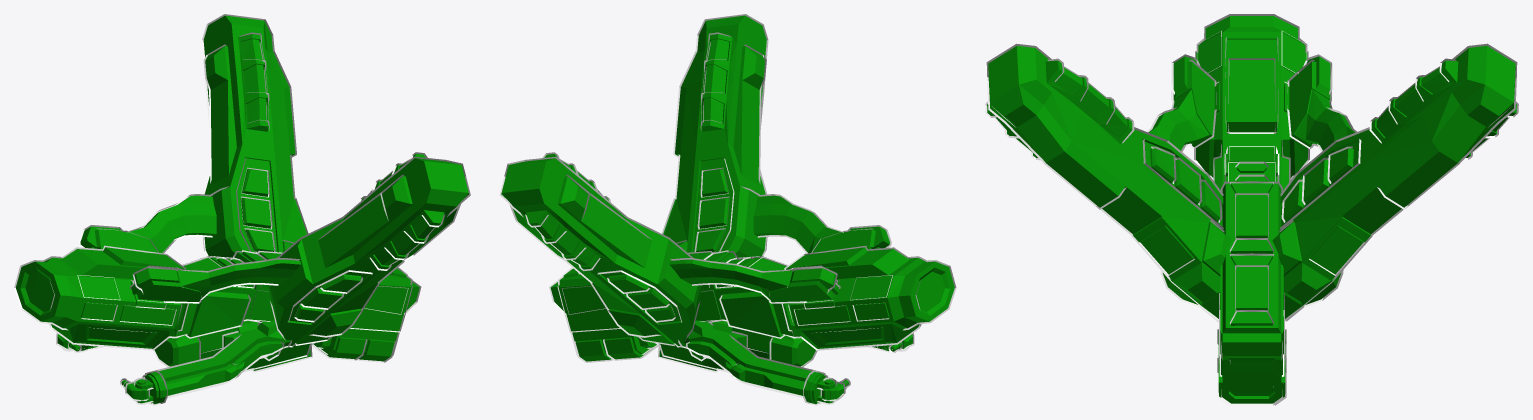
The model's file is ship6_green.glb.
3 renders of one model, left to right at view 1: azimuth 30°, elevation 25°; view 2: azimuth 150°, elevation 25°; view 3: azimuth 270°, elevation 25°, orthographic. The views are drawn at different scales.
Parts seen in each view (by area): view 1: ME_ship_IndexedFaceSet; view 2: ME_ship_IndexedFaceSet; view 3: ME_ship_IndexedFaceSet.
Boxes of the visible parts, x1,y1,x2,y2 form: ME_ship_IndexedFaceSet: (14,14,470,405); ME_ship_IndexedFaceSet: (499,14,956,405); ME_ship_IndexedFaceSet: (985,14,1518,405).
Size of the model in its own units: 484 by 344 by 500.
